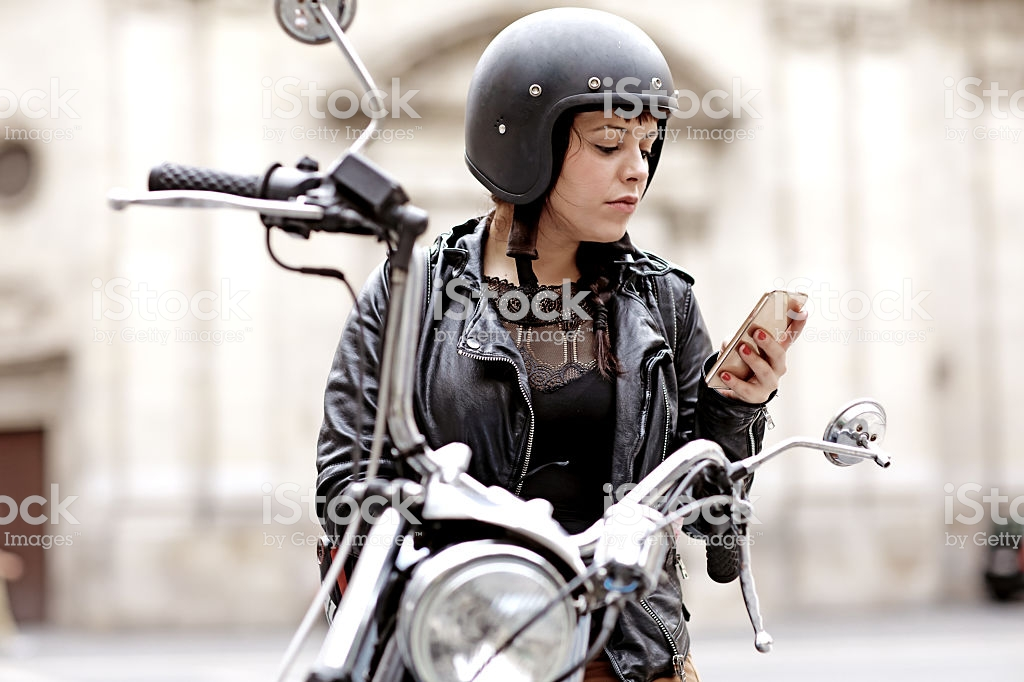helmet: (465, 18, 676, 196)
